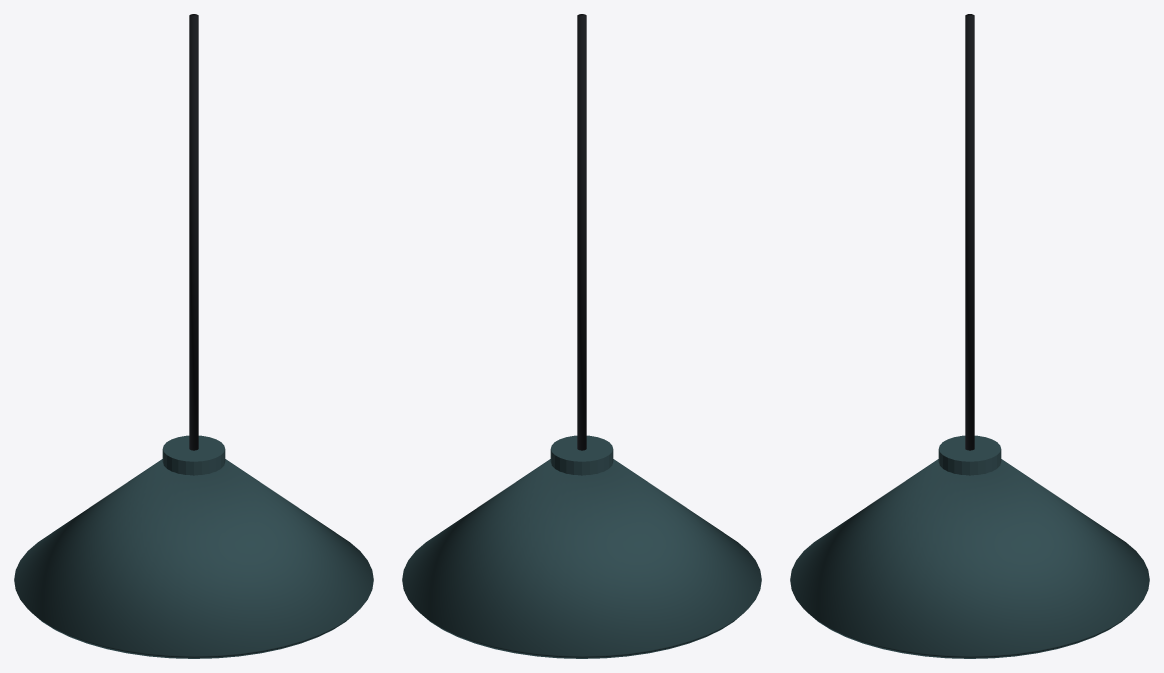
File: lampara_taller.glb
3 renders of one model, left to right at view 1: azimuth 30°, elevation 25°; view 2: azimuth 150°, elevation 25°; view 3: azimuth 270°, elevation 25°, orthographic.
Parts seen in each view (by area): view 1: Cone, Cylinder, Cylinder.001; view 2: Cone, Cylinder, Cylinder.001; view 3: Cone, Cylinder, Cylinder.001.
Part boxes in pixels (x1,y1,x2,y2): Cone: [14, 459, 373, 658]; Cylinder: [189, 14, 198, 450]; Cylinder.001: [162, 435, 225, 475]; Cone: [402, 459, 761, 658]; Cylinder: [577, 14, 586, 450]; Cylinder.001: [550, 435, 613, 475]; Cone: [790, 459, 1149, 658]; Cylinder: [965, 14, 974, 450]; Cylinder.001: [938, 435, 1001, 475].
Size of the model in its own units: 1.5 by 2.65 by 1.5.
